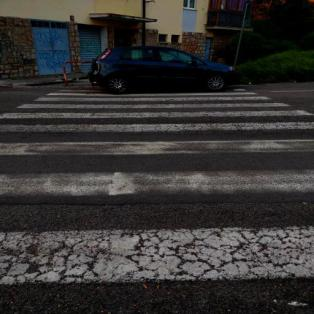Paso de Cebra: (0, 134, 314, 208), (10, 95, 292, 112)
